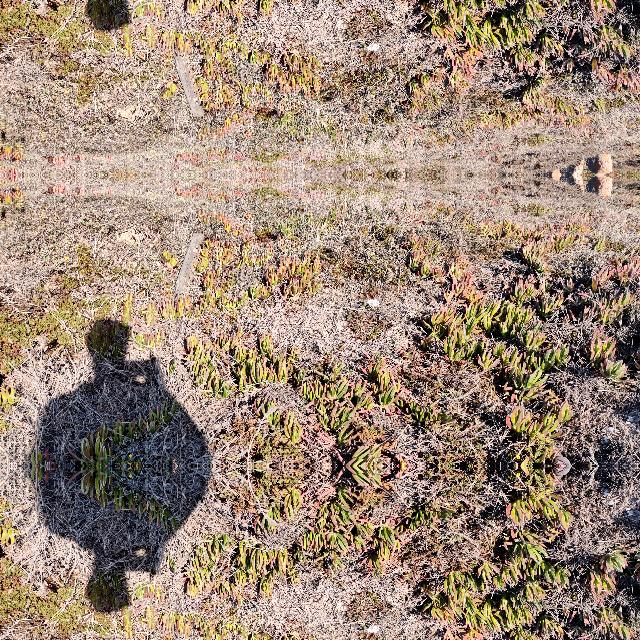Paper: (364, 294, 384, 308), (364, 40, 384, 54), (364, 623, 384, 637)
